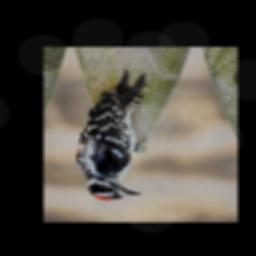Woodpecker: (73, 69, 145, 201)
